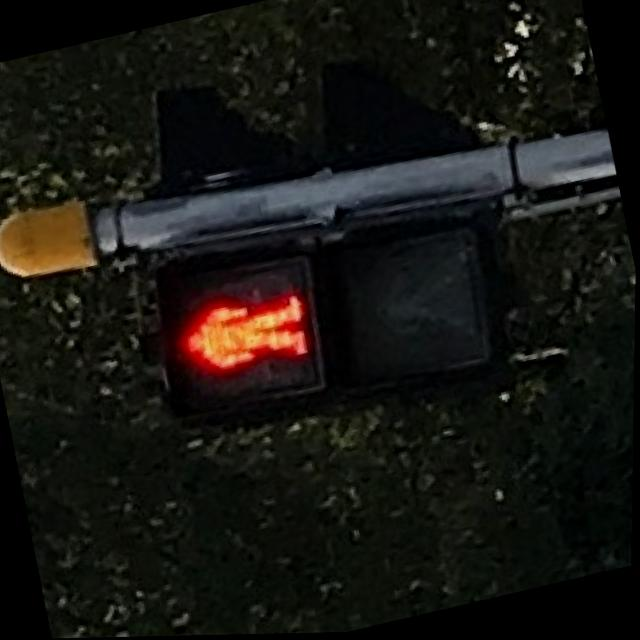red_light: (152, 245, 333, 421)
